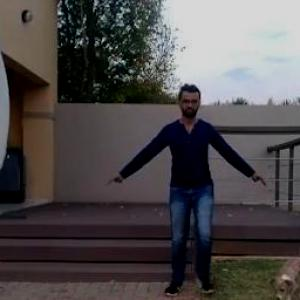land: (99, 97, 264, 285)
